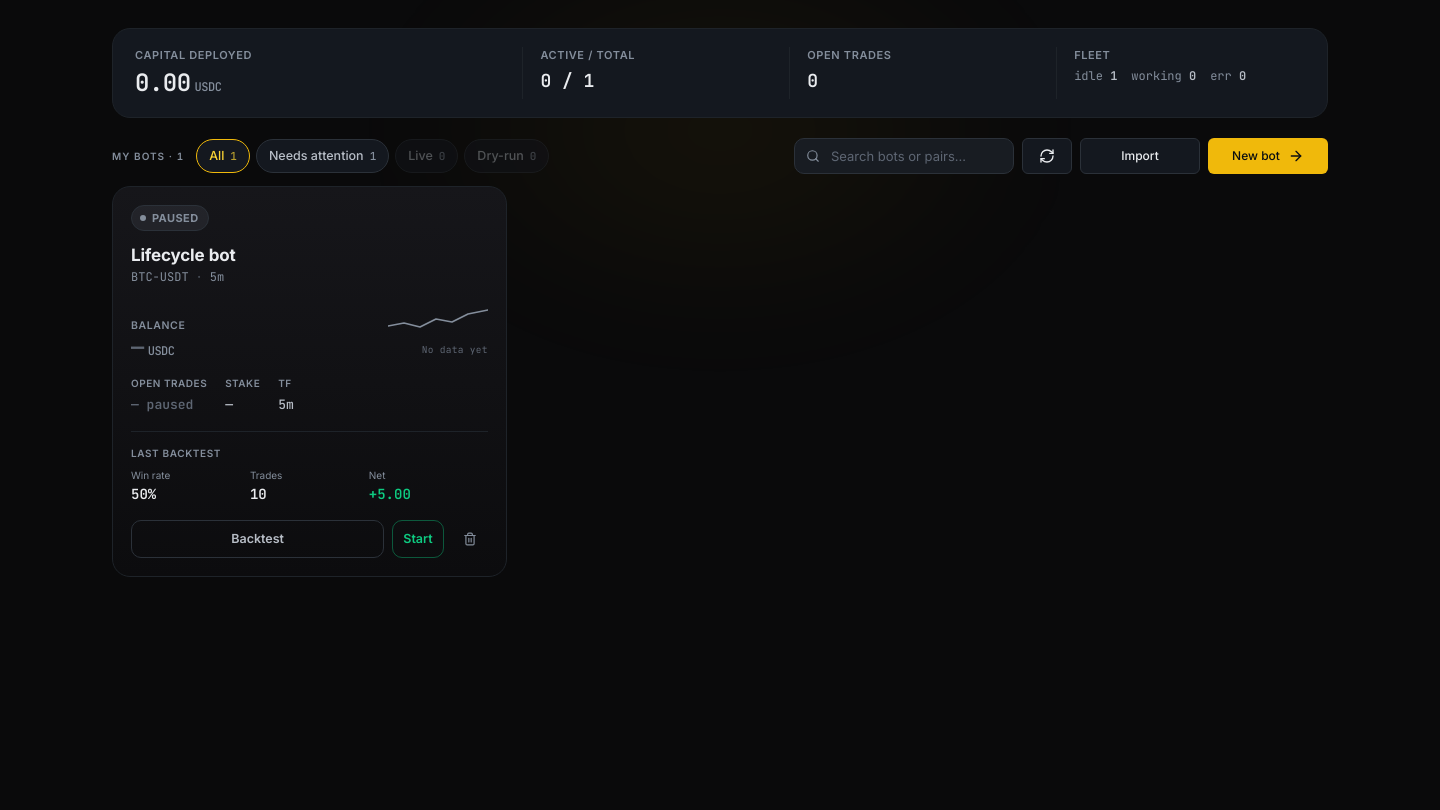
Scenario: DashboardPage — lifecycle actions › Delete button confirms then removes the row
The width and height of the screenshot is (1440, 810).
Check: the heading "Lifecycle bot" is shown, box [131,245,236,265]
Click the button named "delete bot" at x=470, y=539, box [452,520,488,558]
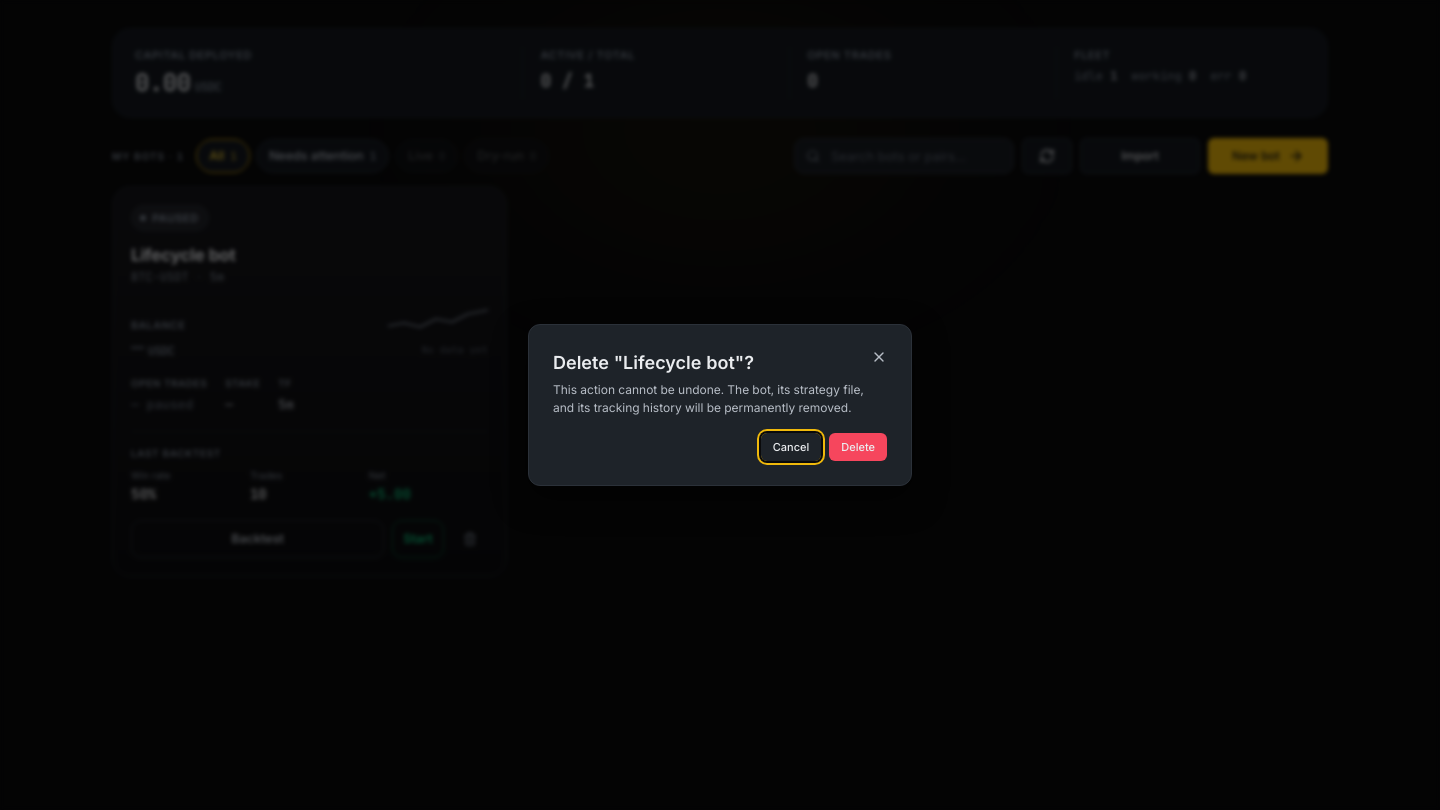
Check: the heading "Delete \"Lifecycle bot\"?" is shown, box [553,352,754,373]
Click the button "Delete" at x=858, y=447, box [829,433,887,461]
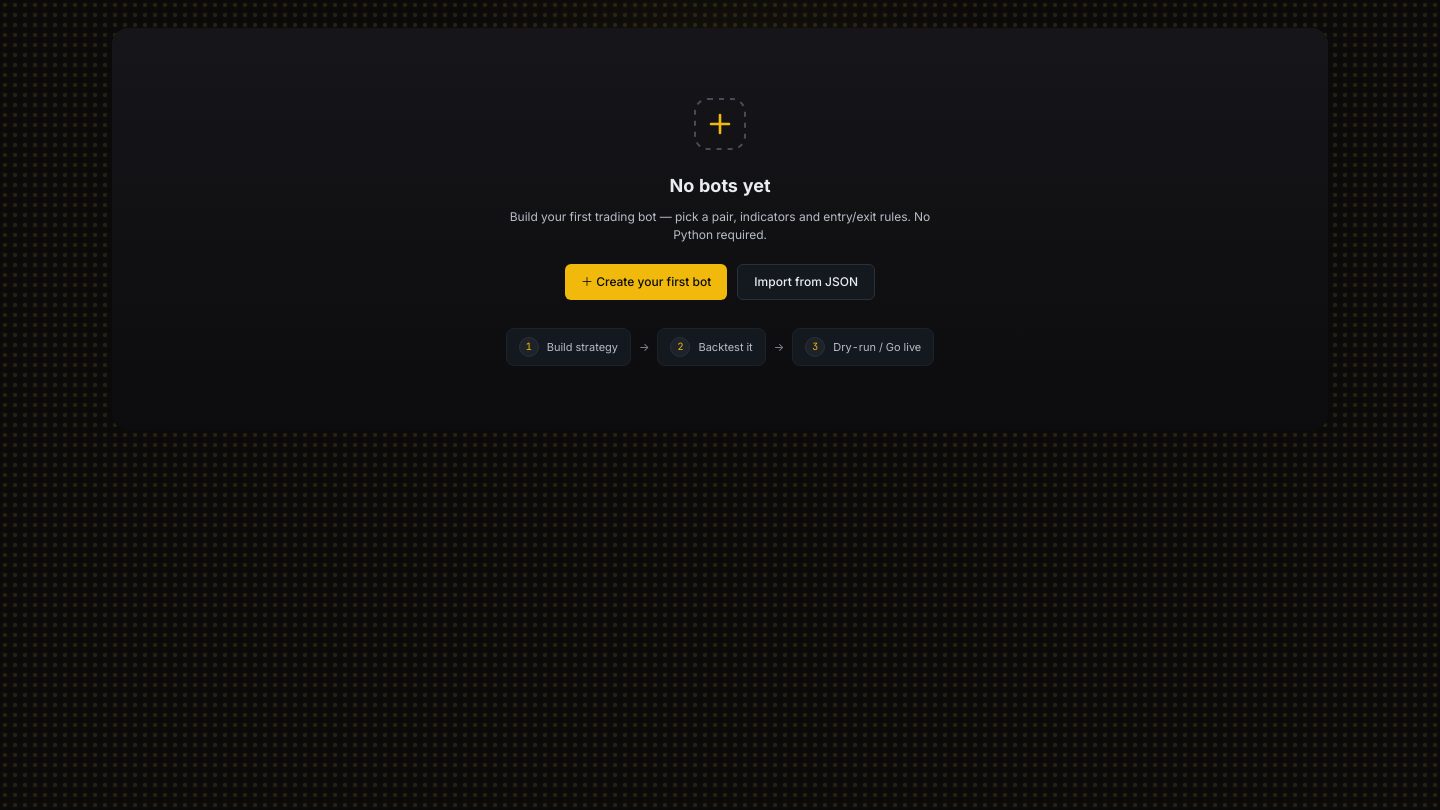
Check: the link "Lifecycle bot" is gone
